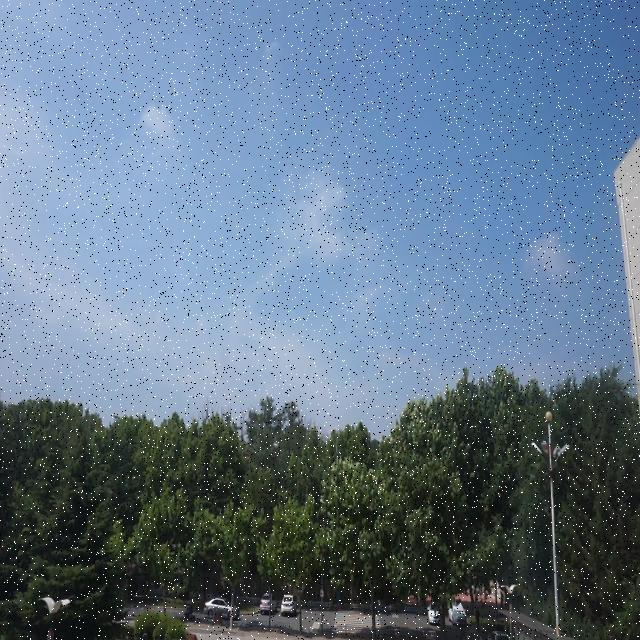UAV: (273, 442, 279, 448)
